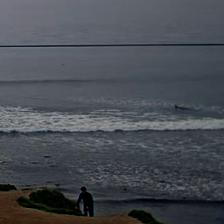surfer: (174, 104, 183, 110)
